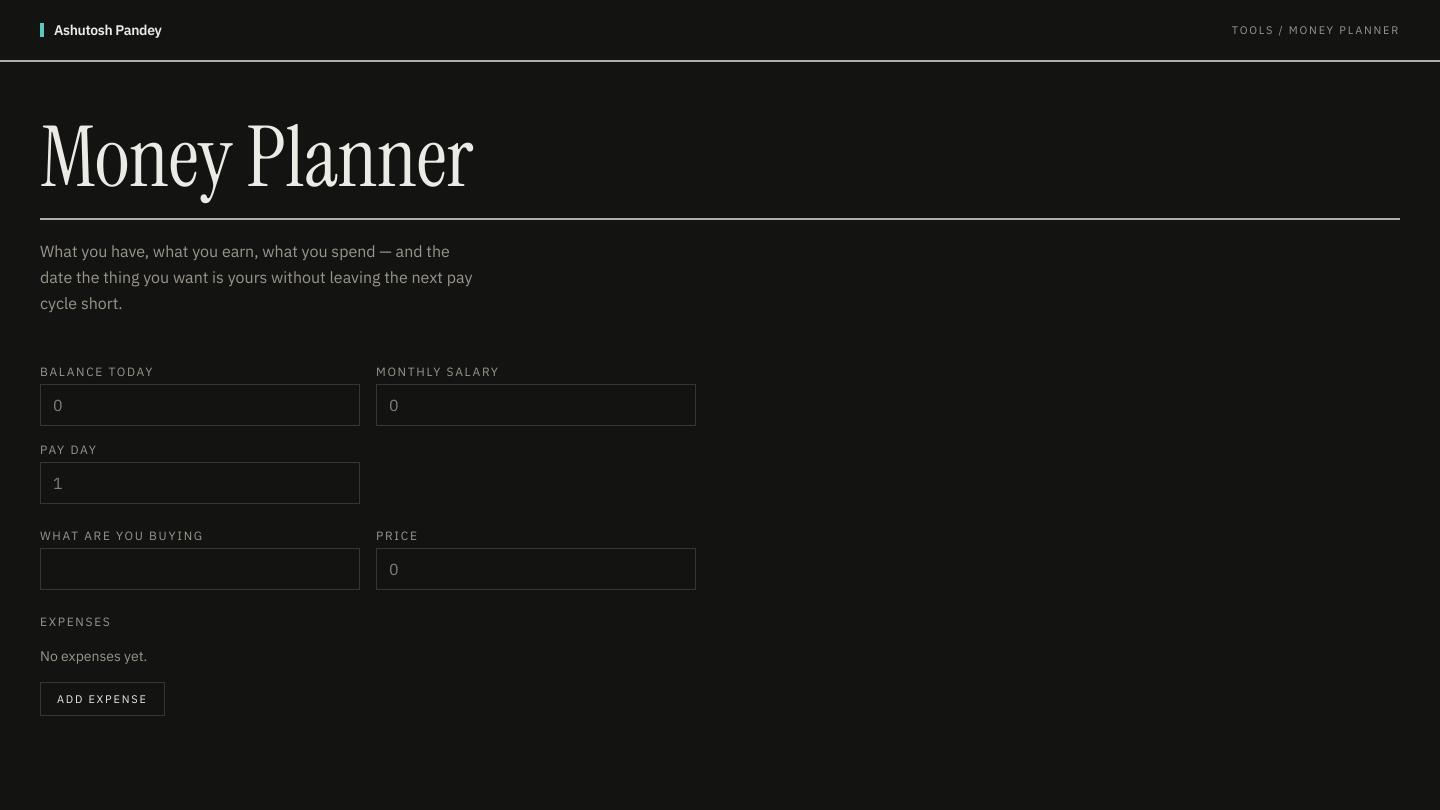
Money Planner page › asks for the fields still blank once something has been entered
In the number field labelled "Price": (536, 569) [376, 548, 696, 590], type "90000"
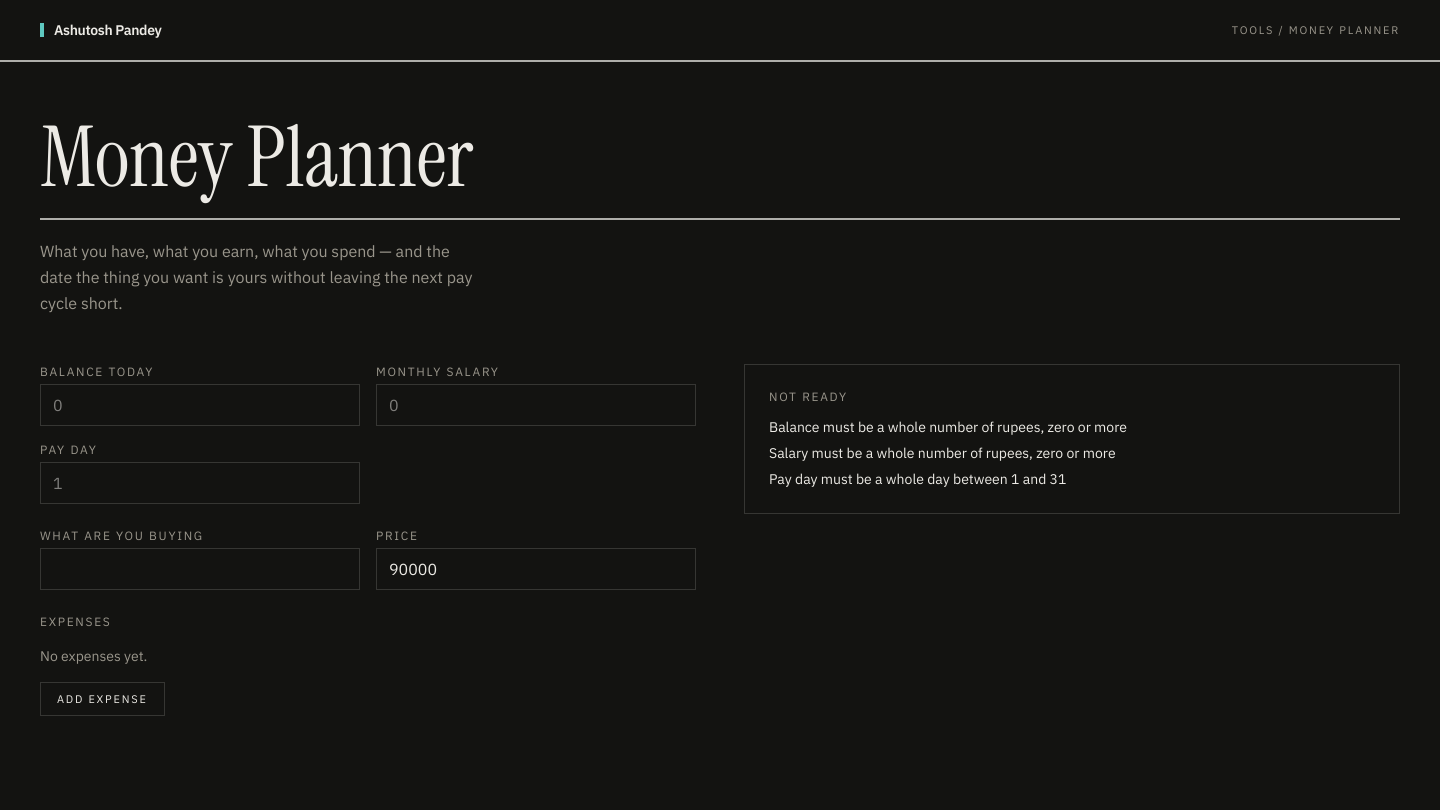
Check: the list item "Balance must be a whole number of rupees, zero or more" is shown, box [769, 418, 1127, 436]
